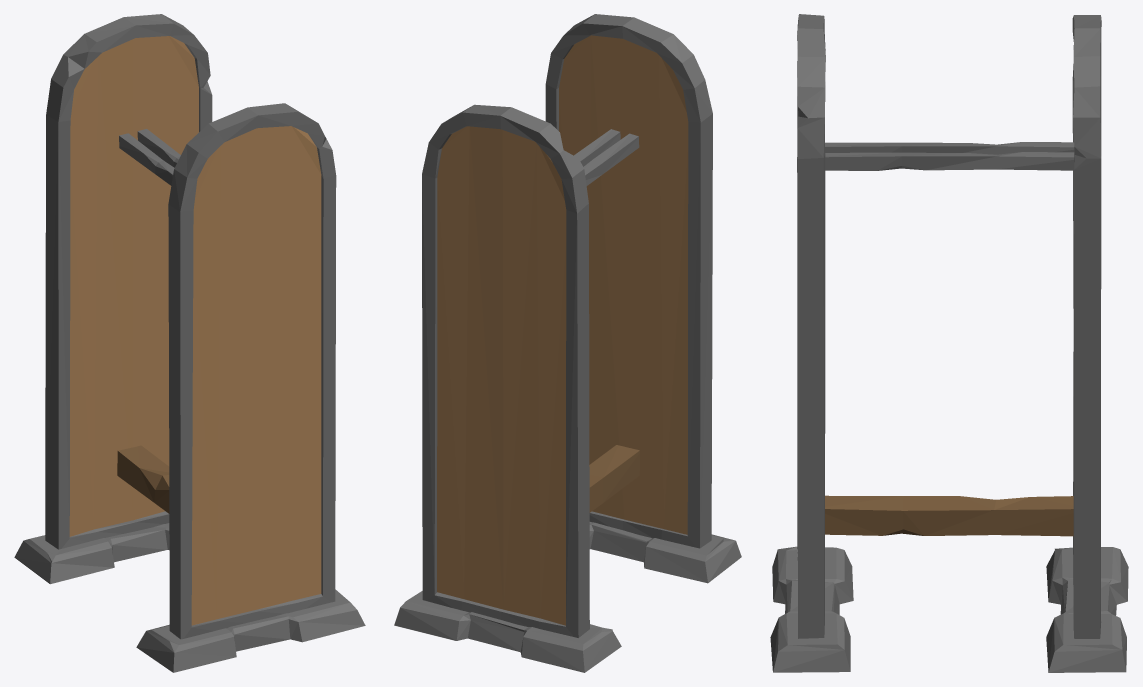
The model's file is SFFA_Tool_Stand_002.fbx.
3 renders of one model, left to right at view 1: azimuth 30°, elevation 25°; view 2: azimuth 150°, elevation 25°; view 3: azimuth 270°, elevation 25°, orthographic. The views are drawn at different scales.
Parts seen in each view (by area): view 1: SFFA_Tool_Stand_002; view 2: SFFA_Tool_Stand_002; view 3: SFFA_Tool_Stand_002.
Boxes of the visible parts, x1,y1,x2,y2 form: SFFA_Tool_Stand_002: (14,14,365,672); SFFA_Tool_Stand_002: (394,14,741,672); SFFA_Tool_Stand_002: (770,14,1128,672).
Size of the model in its own units: 45.29 by 117 by 64.21.
